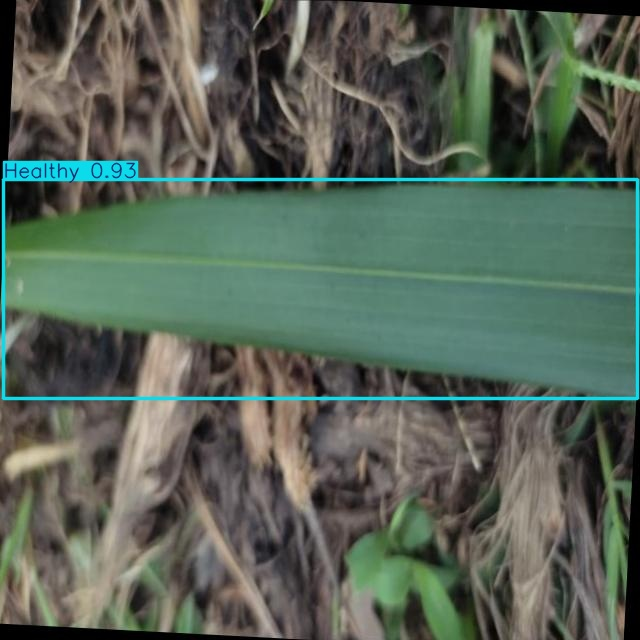Healthy: (4, 180, 638, 398)
